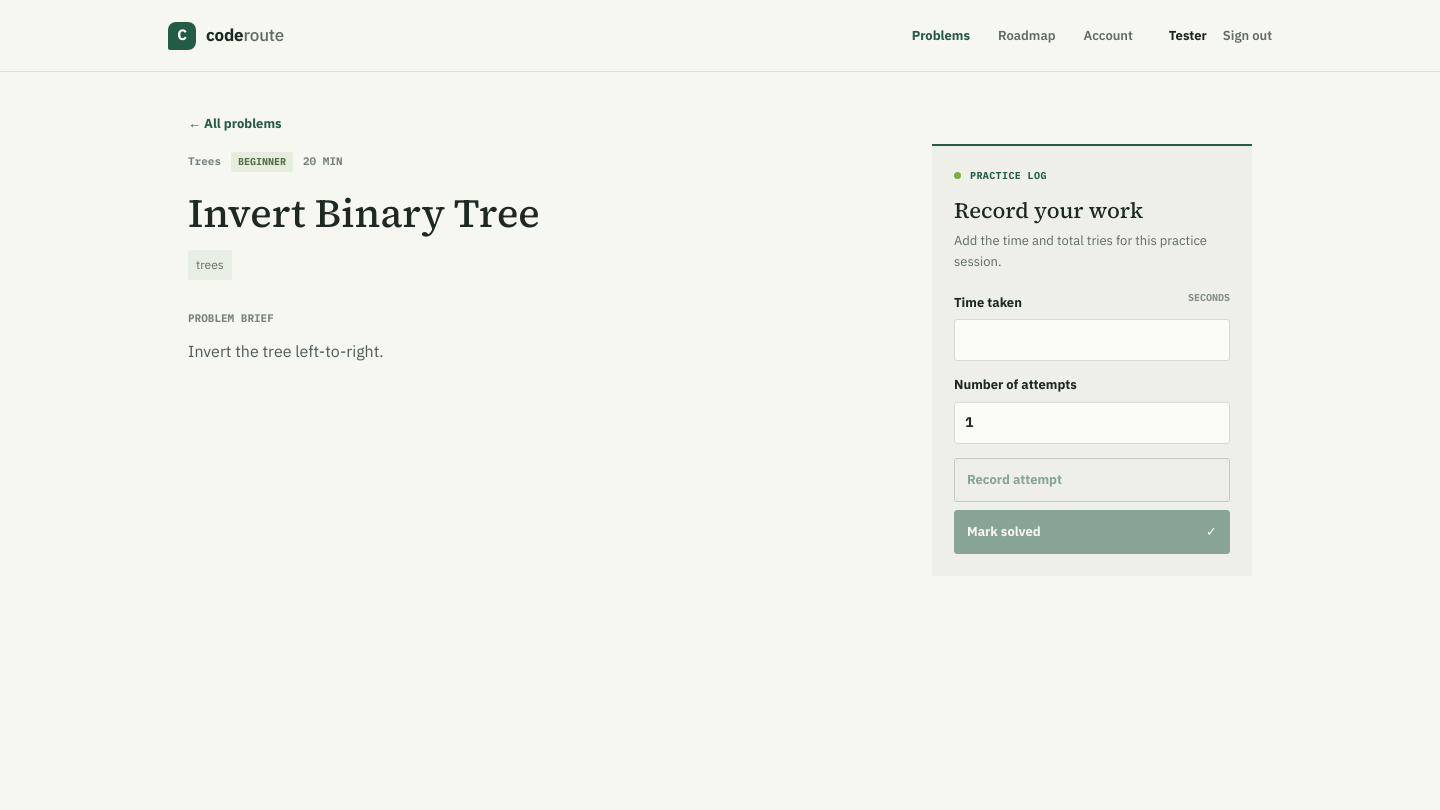
Scenario: ProblemDetailPage Component › records attempt and displays confirmation notice
Expected: the heading "Invert Binary Tree" is shown, x1=188 y1=186 x2=540 y2=240
Step 1. Type "300" into the number field labelled "Time taken SECONDS" → (1092, 340), box x1=954 y1=320 x2=1230 y2=362
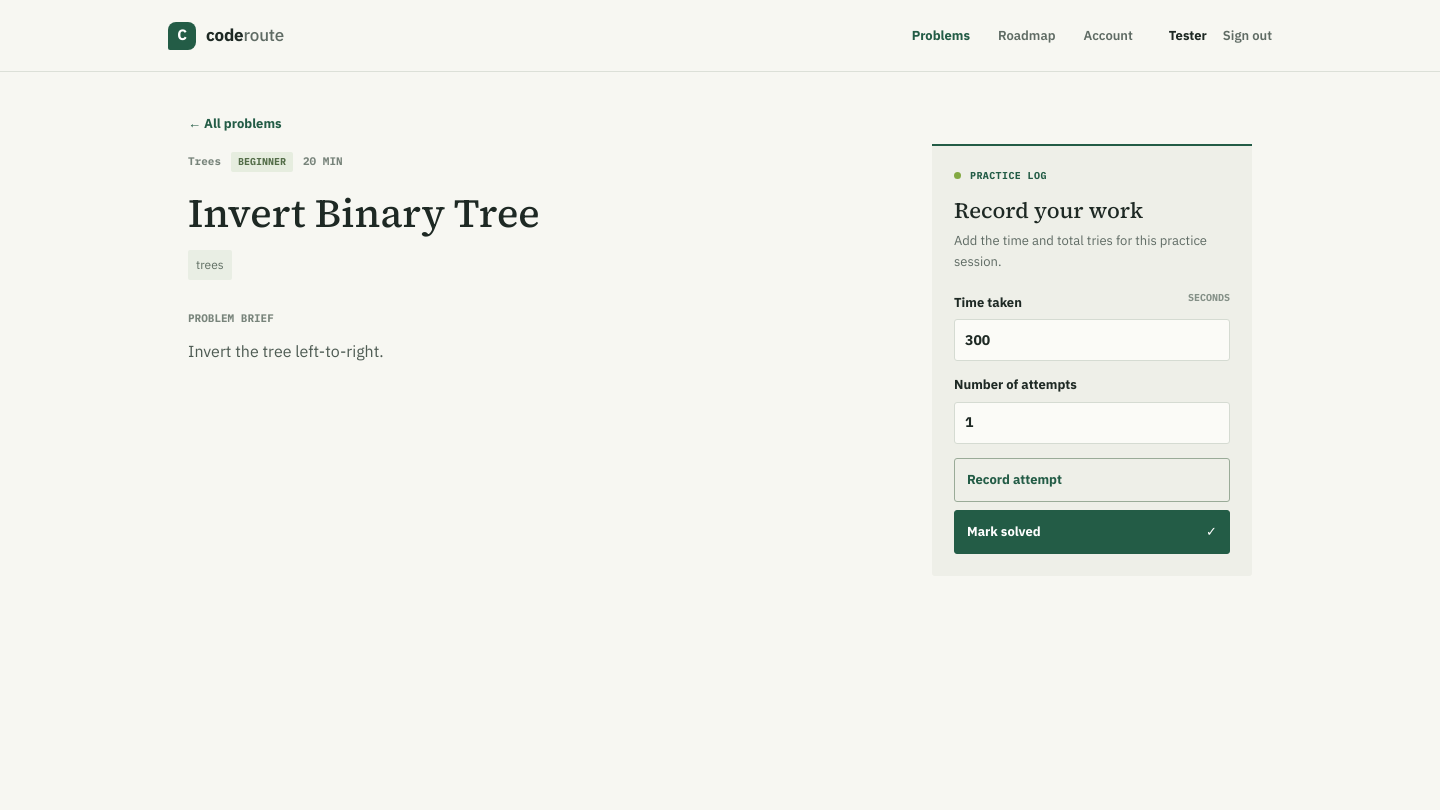
Step 2. Click the button "Mark solved ✓" → (1004, 532), box x1=954 y1=510 x2=1230 y2=554
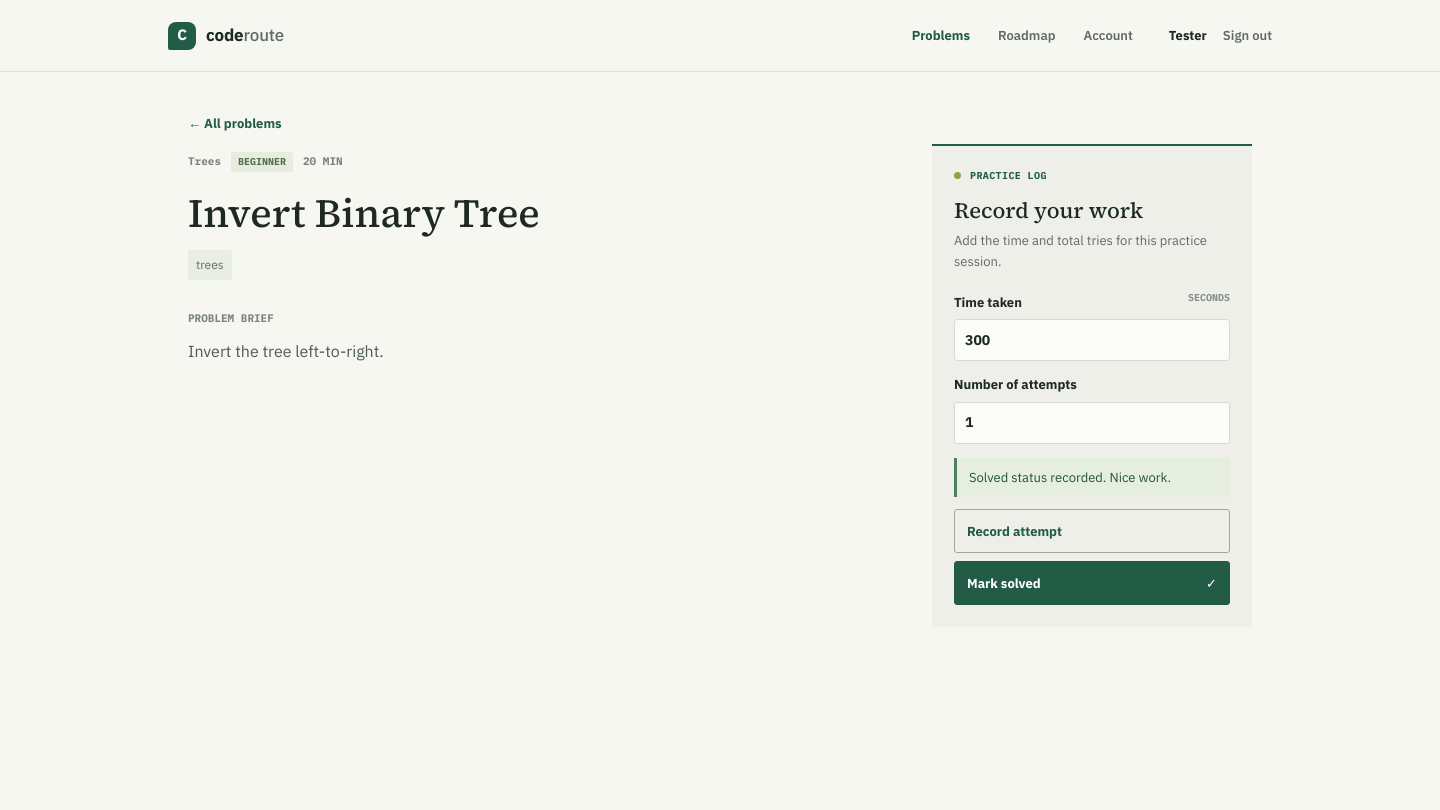
Result: the message with test id "attempt-notice" reads "Solved status recorded. Nice work." at x1=969 y1=469 x2=1171 y2=486
